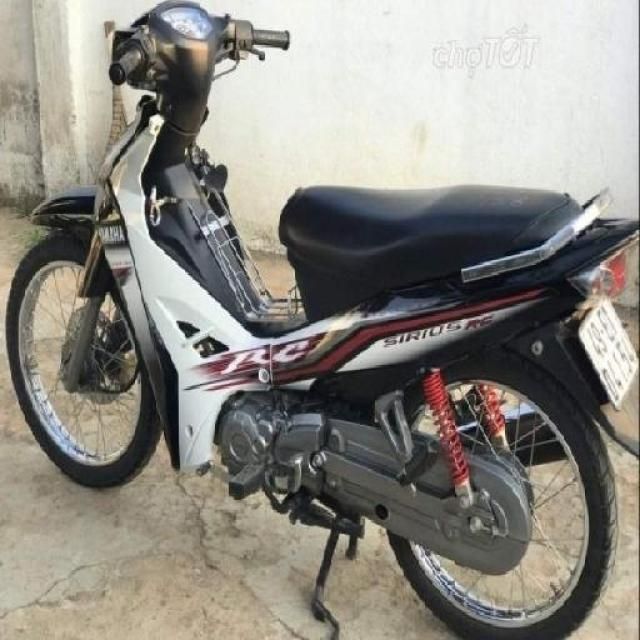All: (4, 2, 640, 640)
Head: (105, 4, 292, 90)
Tail: (536, 182, 636, 280)
